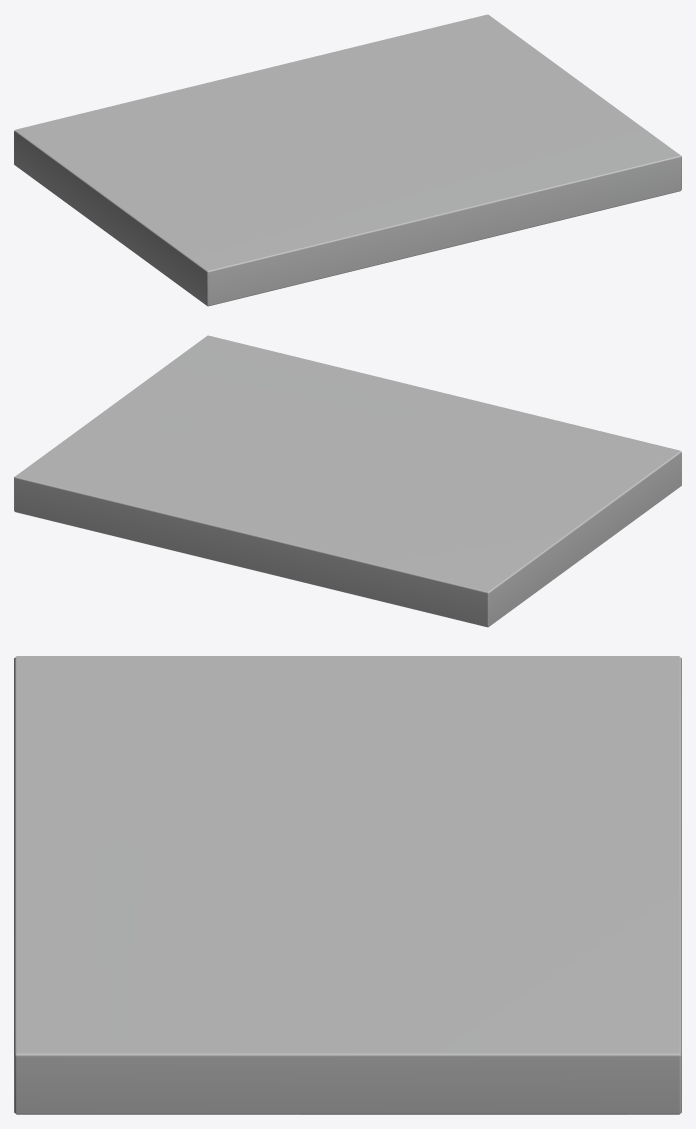
Rendered from Town_1_Base_1.glb.
3 views of the same model, one above another, from view 1: azimuth 30°, elevation 25°; view 2: azimuth 150°, elevation 25°; view 3: azimuth 270°, elevation 25° (orthographic). The views are drawn at different scales.
Visible parts, largest first — view 1: Town_1_Base_1; view 2: Town_1_Base_1; view 3: Town_1_Base_1.
Boxes of the visible parts, box(x1,y1,x2,y2) form: Town_1_Base_1: box(14, 14, 681, 306); Town_1_Base_1: box(14, 335, 681, 627); Town_1_Base_1: box(14, 656, 681, 1114).
Size of the model in its own units: 15.84 by 1.15 by 11.2.
Materials: 1 (1 with a texture image).
